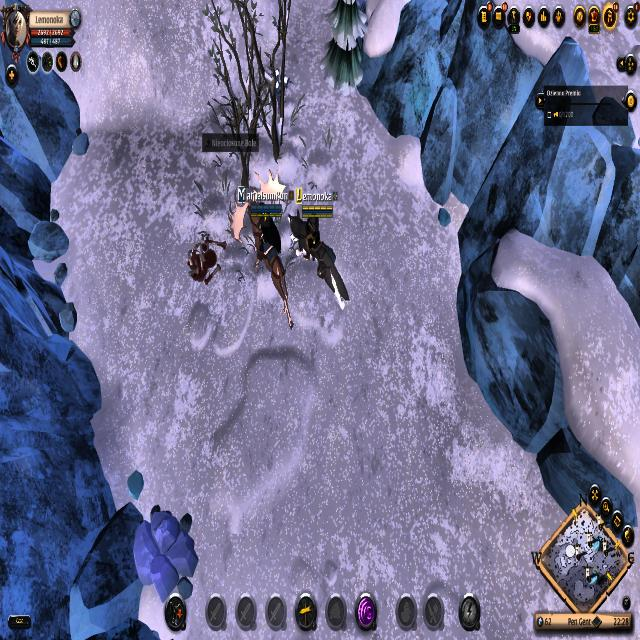rock tier 4: (132, 502, 201, 590)
